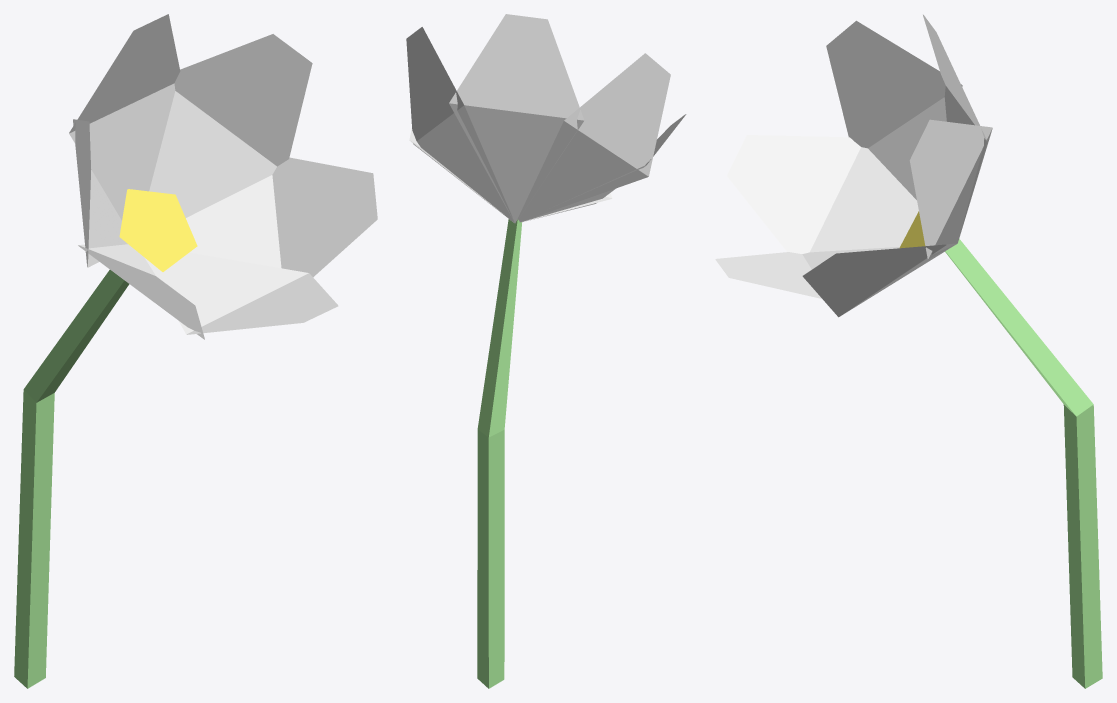
The model's file is Flower_e_TwoS_02.fbx.
3 views of the same model, side by side, from view 1: azimuth 30°, elevation 25°; view 2: azimuth 150°, elevation 25°; view 3: azimuth 270°, elevation 25° (orthographic). The views are drawn at different scales.
Visible parts, largest first — view 1: Flower_e_TwoS_02; view 2: Flower_e_TwoS_02; view 3: Flower_e_TwoS_02.
Boxes of the visible parts, left/top/right/bottom form: Flower_e_TwoS_02: left=14, top=14, right=377, bottom=688; Flower_e_TwoS_02: left=406, top=14, right=686, bottom=688; Flower_e_TwoS_02: left=715, top=14, right=1102, bottom=688.
Size of the model in its own units: 14.49 by 34.14 by 17.7.
